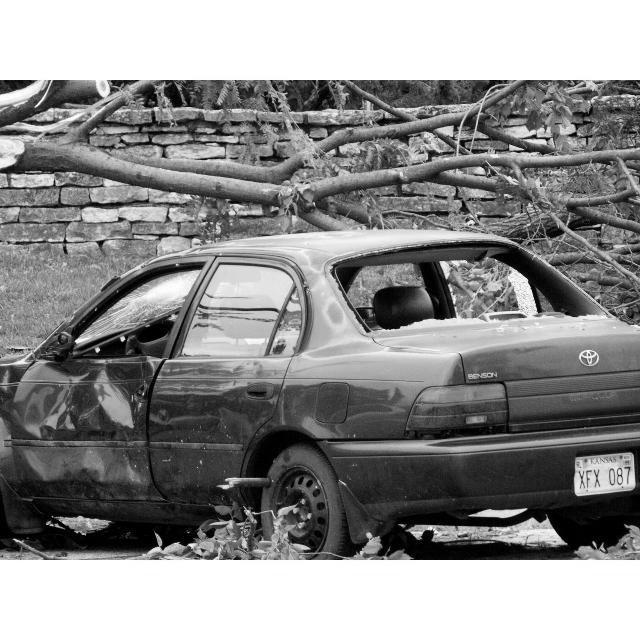Rear-windscreen-Damage: (329, 237, 585, 339)
doorouter-dent: (29, 341, 157, 495), (165, 350, 271, 491)
